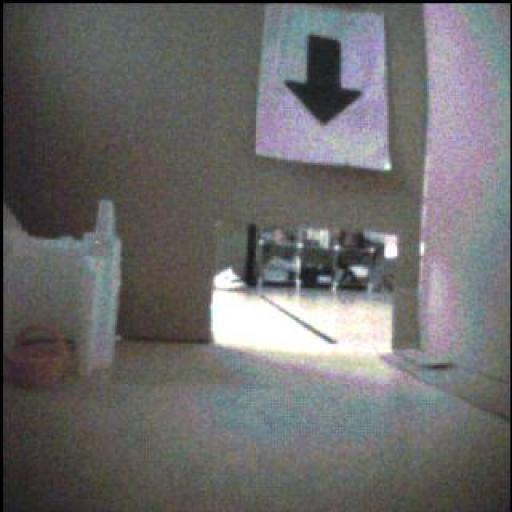arrow: (286, 36, 363, 126)
